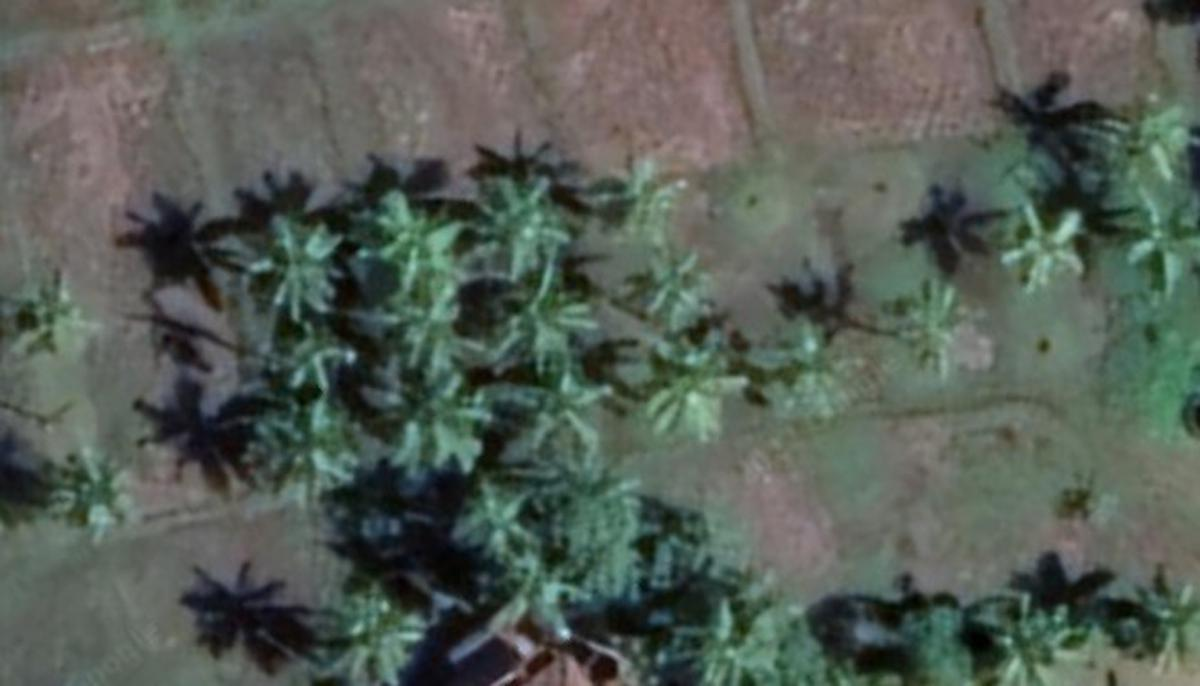coconut: (314, 585, 436, 686), (370, 375, 488, 479), (249, 210, 357, 316), (639, 328, 743, 436), (1095, 89, 1200, 192), (468, 170, 574, 271), (368, 190, 470, 292), (973, 598, 1090, 686), (370, 278, 477, 373), (253, 402, 366, 488), (891, 274, 982, 378), (519, 368, 619, 461), (1007, 197, 1104, 292), (492, 271, 594, 360), (668, 603, 777, 686), (16, 272, 109, 368), (50, 454, 149, 542), (1124, 181, 1198, 292), (445, 474, 540, 558), (1126, 563, 1200, 668), (765, 328, 847, 420), (610, 158, 691, 251), (278, 326, 364, 396), (625, 255, 705, 326)
